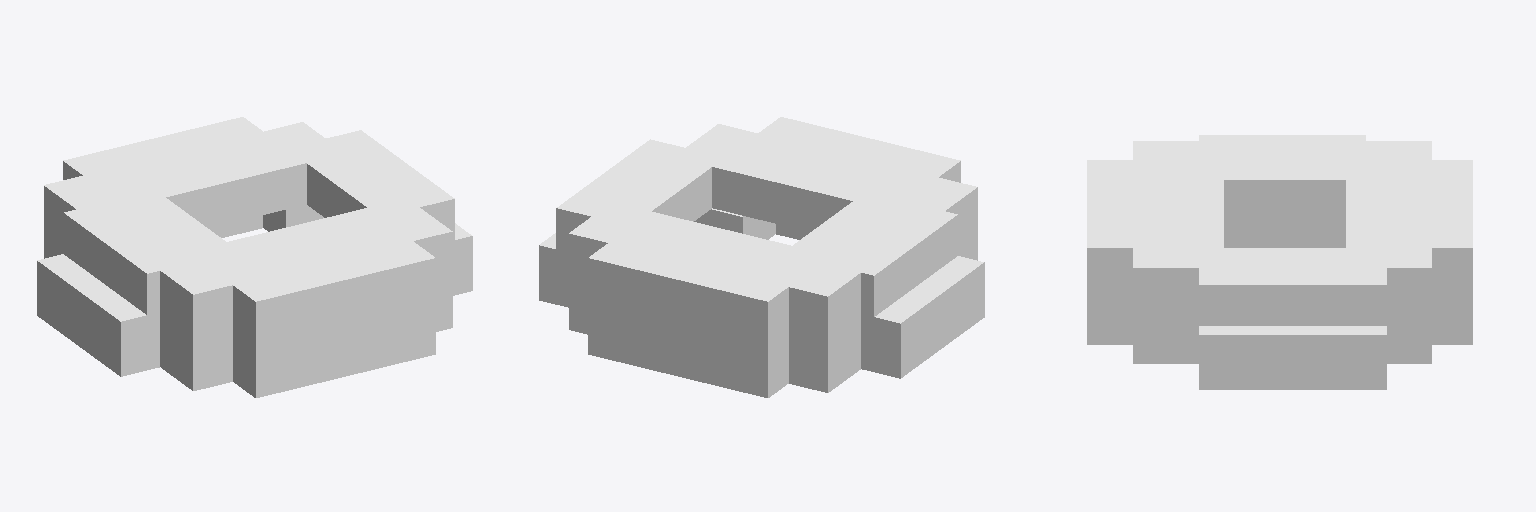
File: Robe.obj
3 renders of one model, left to right at view 1: azimuth 30°, elevation 25°; view 2: azimuth 150°, elevation 25°; view 3: azimuth 270°, elevation 25°, orthographic.
Visible parts, largest first — view 1: object 1; view 2: object 1; view 3: object 1.
Part boxes in pixels (bbox=[...]): object 1: bbox=[37, 117, 472, 397]; object 1: bbox=[539, 117, 984, 397]; object 1: bbox=[1087, 135, 1472, 389].
Size of the model in its own units: 8 by 2.1 by 7.6.